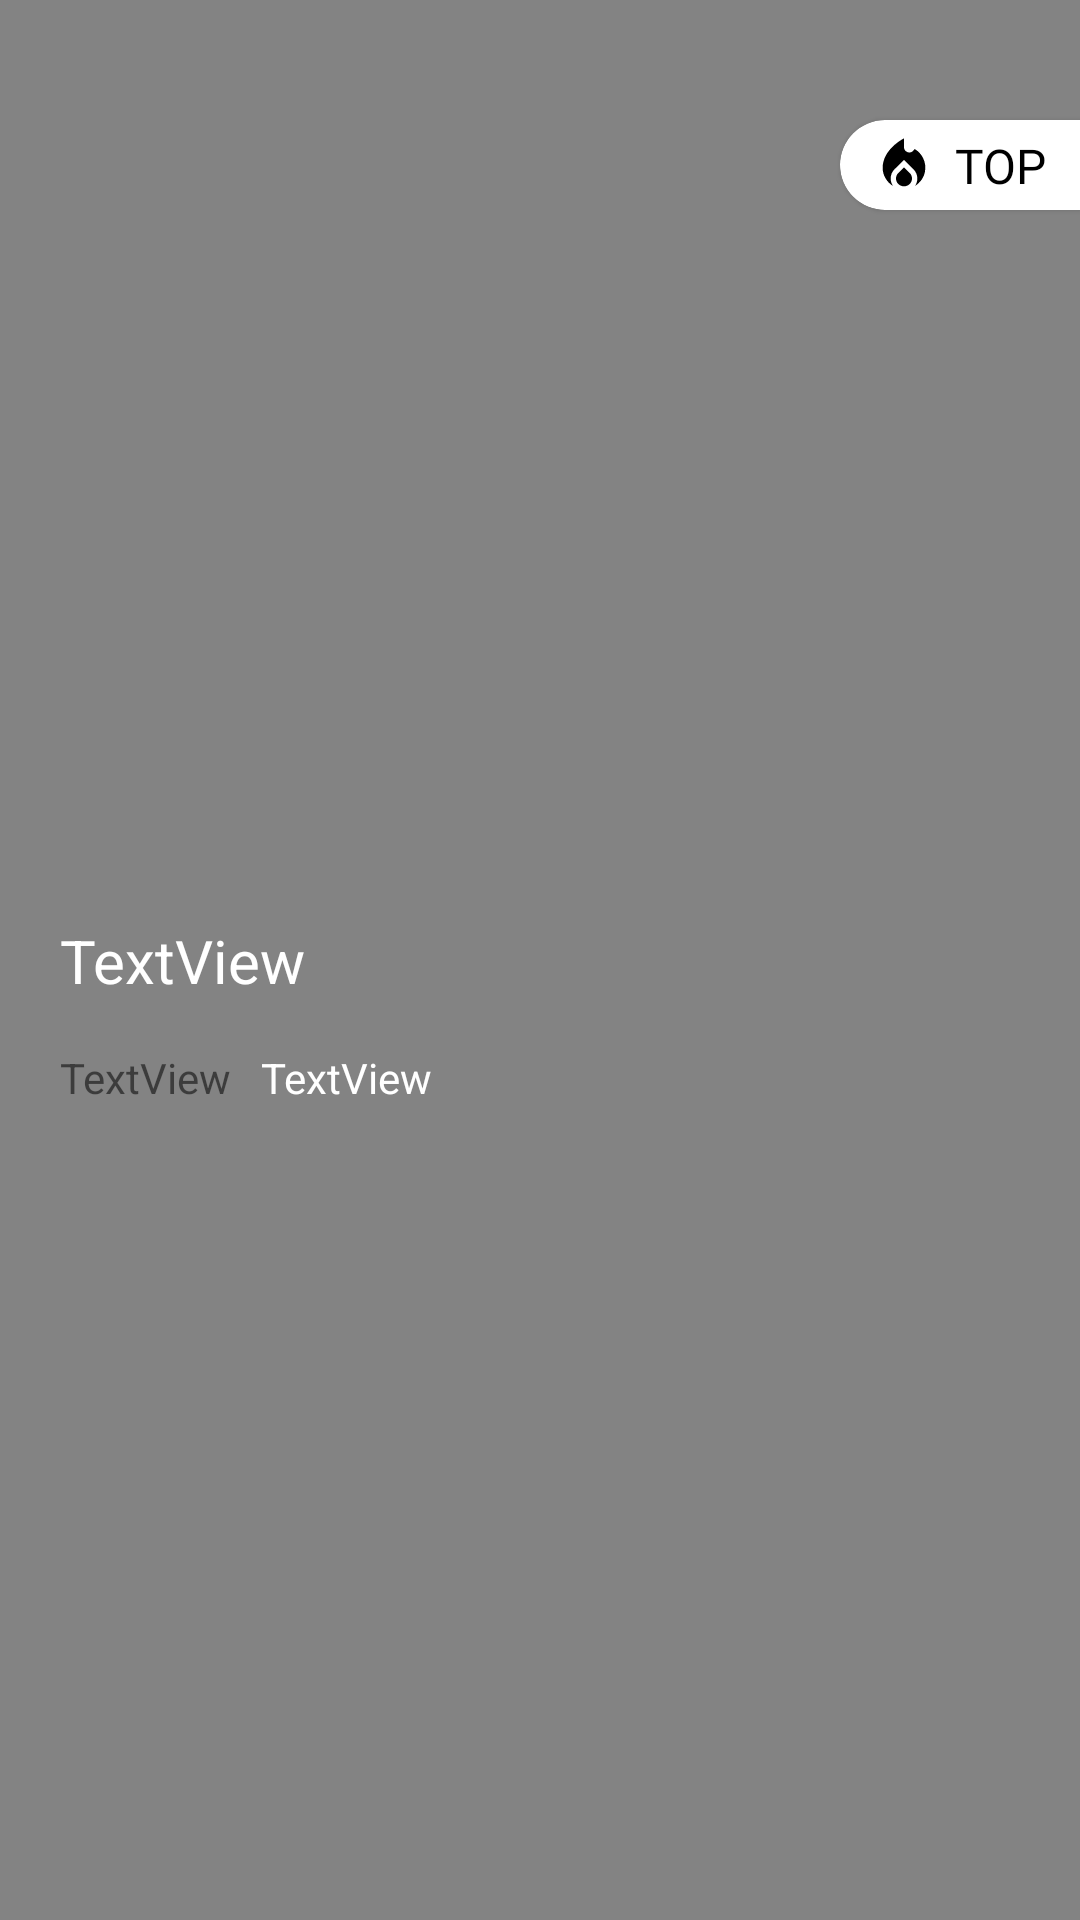

Icons on this 1080 × 1920 Android screen, each with its box as (x1, y1, x2, y2):
Top News Icon: (882, 138, 926, 187)
